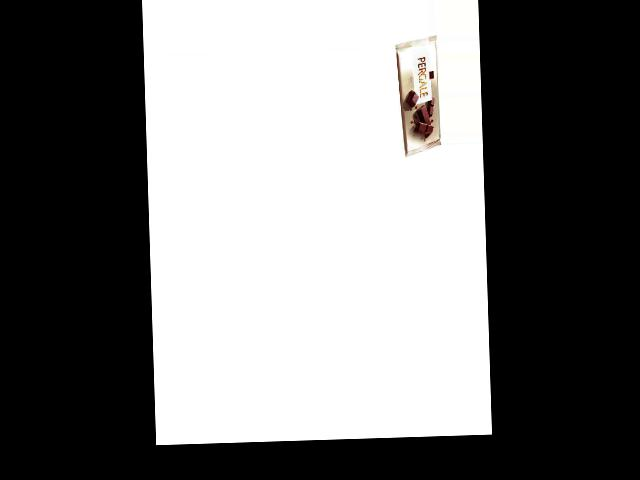chocolate: (396, 33, 441, 159)
